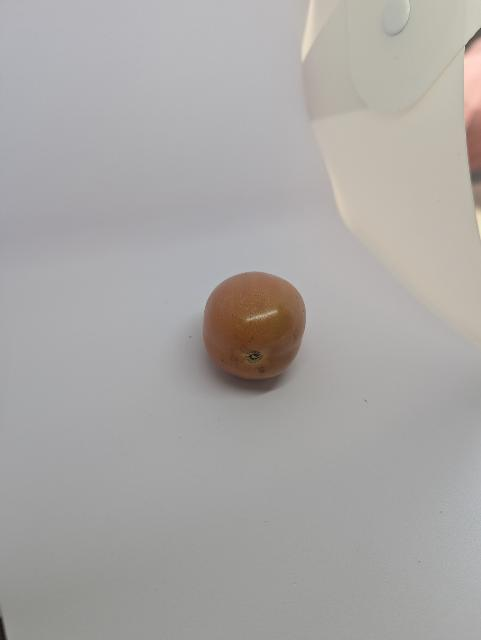turning: (193, 260, 315, 392)
